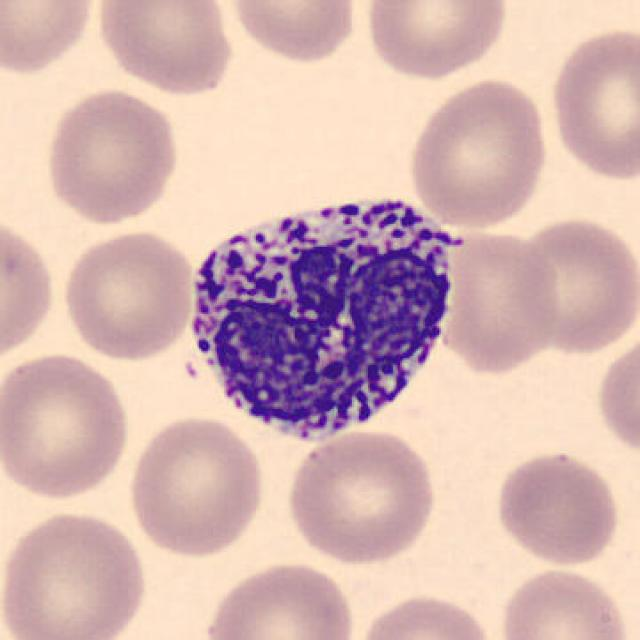Basophil: (169, 173, 471, 458)
RBC: (404, 74, 551, 231), (281, 425, 441, 568), (122, 410, 268, 560), (0, 349, 135, 503), (0, 506, 151, 640), (41, 84, 183, 226), (57, 226, 197, 365), (508, 211, 638, 358), (439, 224, 562, 375), (491, 448, 624, 568), (546, 22, 638, 184), (91, 0, 238, 97), (199, 557, 359, 640), (361, 0, 512, 81), (494, 564, 635, 640), (224, 0, 363, 67), (0, 212, 59, 368), (0, 0, 100, 78), (352, 590, 498, 640), (594, 328, 638, 462)
